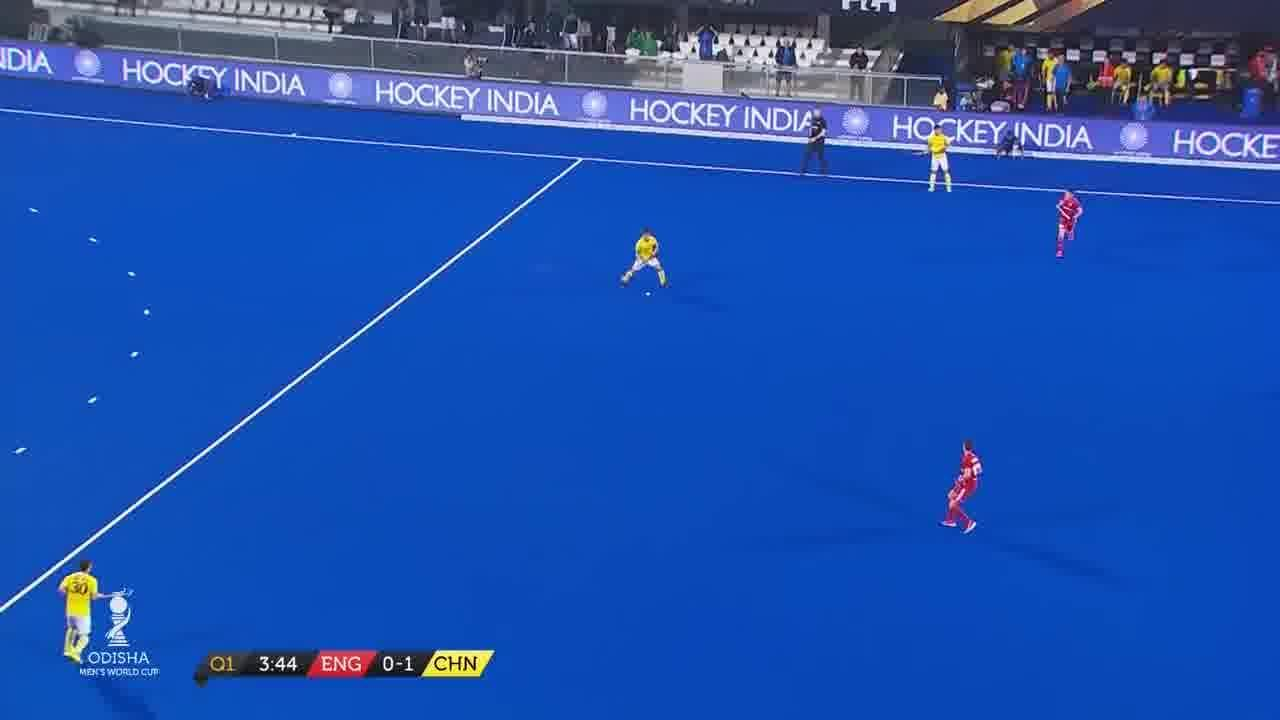ball: (644, 290, 652, 297)
